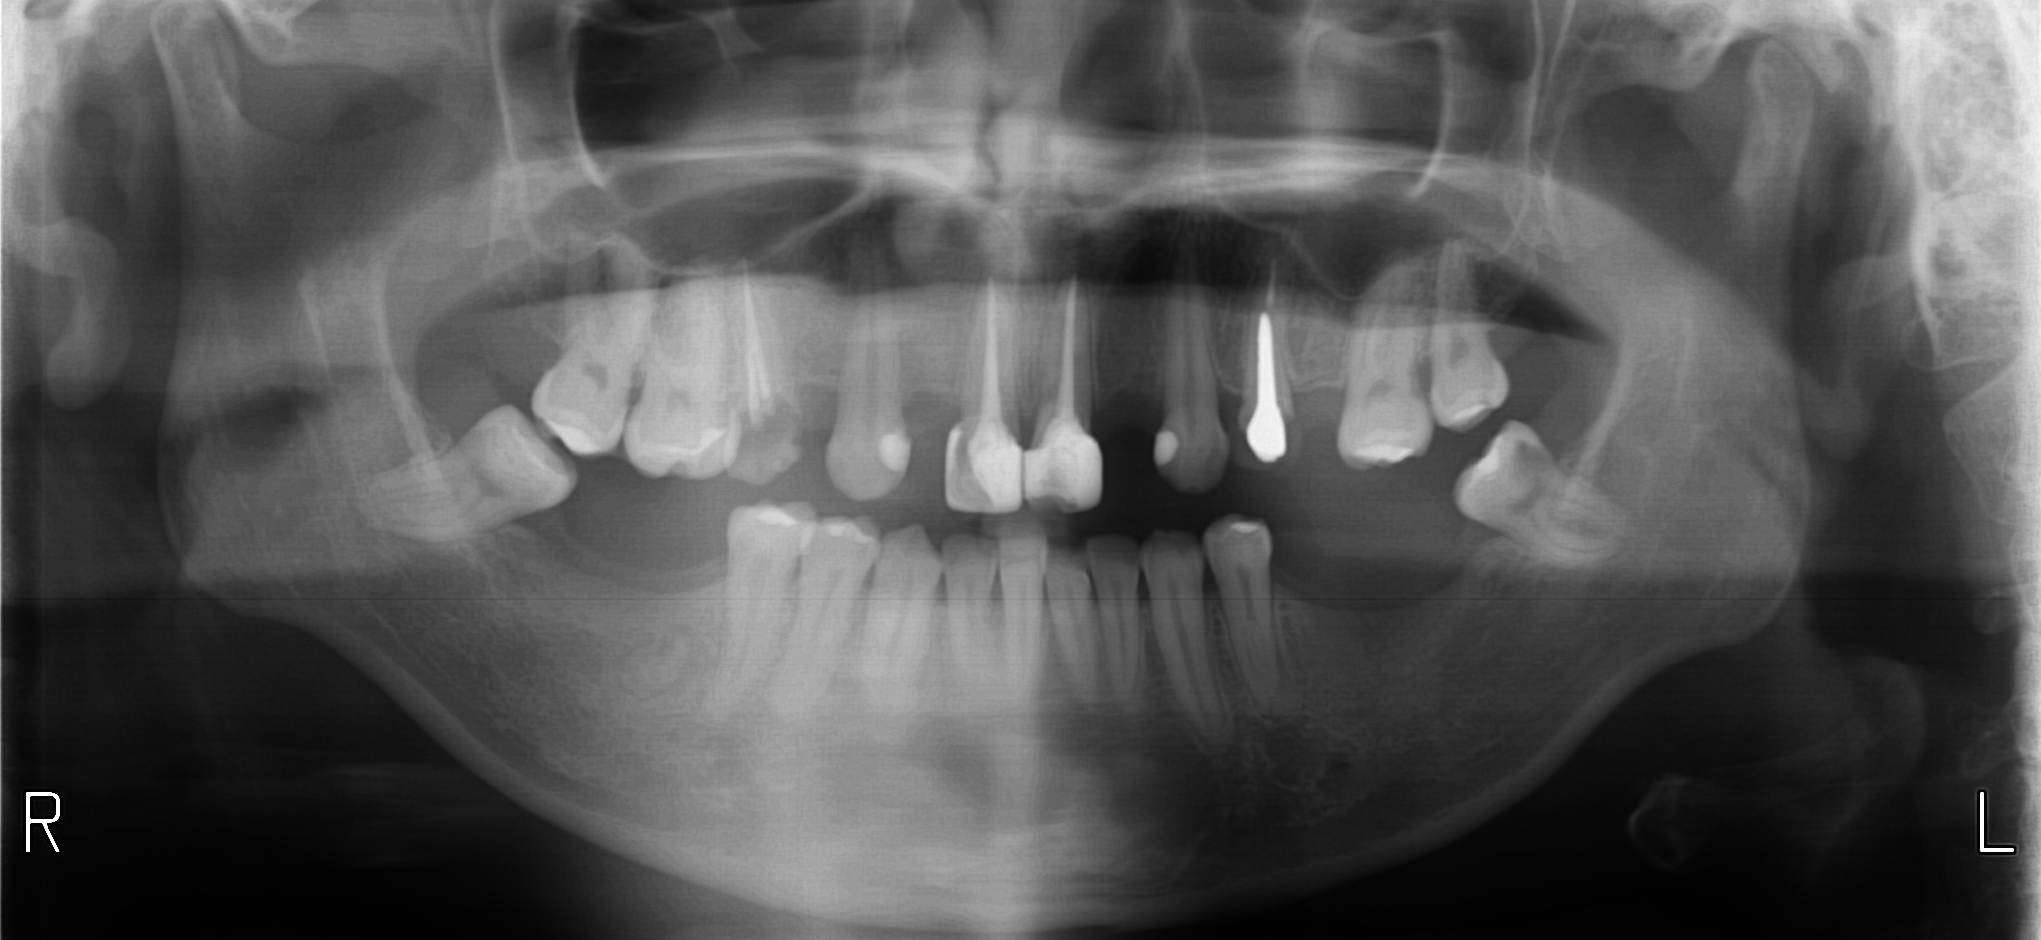cavity: (737, 394, 798, 458), (1516, 443, 1552, 465)
